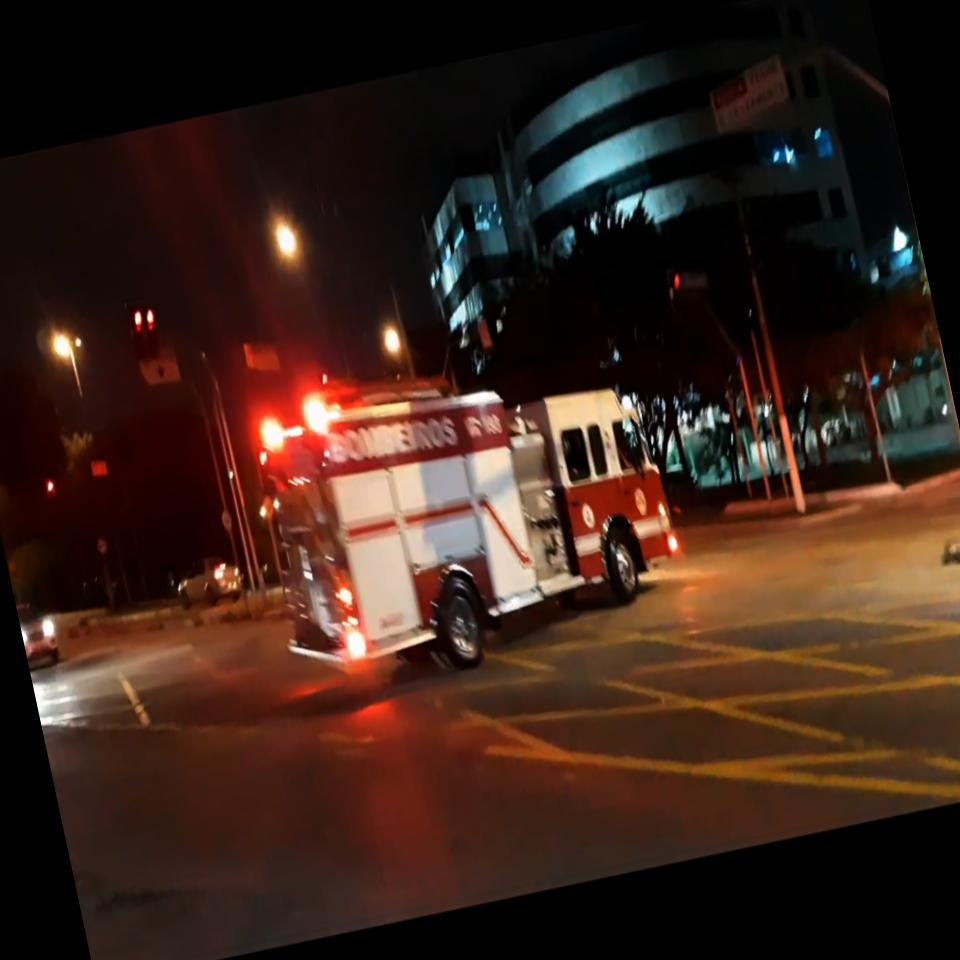viatura: (240, 323, 699, 705)
